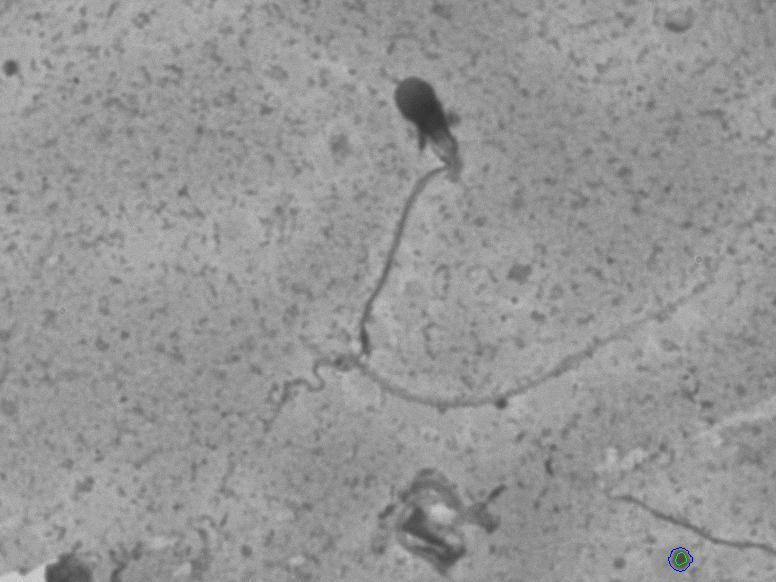Abnormal: (301, 13, 526, 378)
